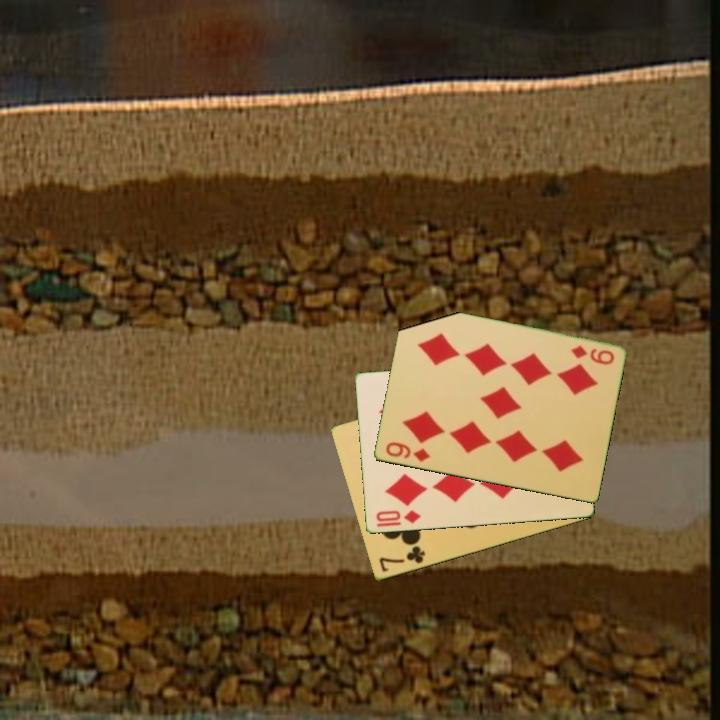10d: (372, 507, 423, 527)
7c: (375, 543, 428, 575)
9d: (382, 439, 432, 465), (567, 342, 617, 368)
